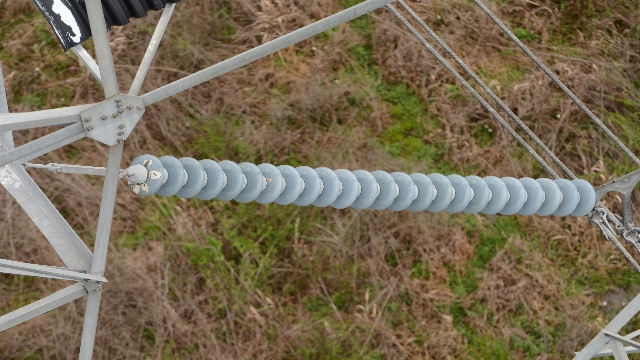insulator_unspecified: (130, 153, 595, 217)
pollution_flashover_local: (128, 159, 161, 194), (266, 178, 272, 182)
